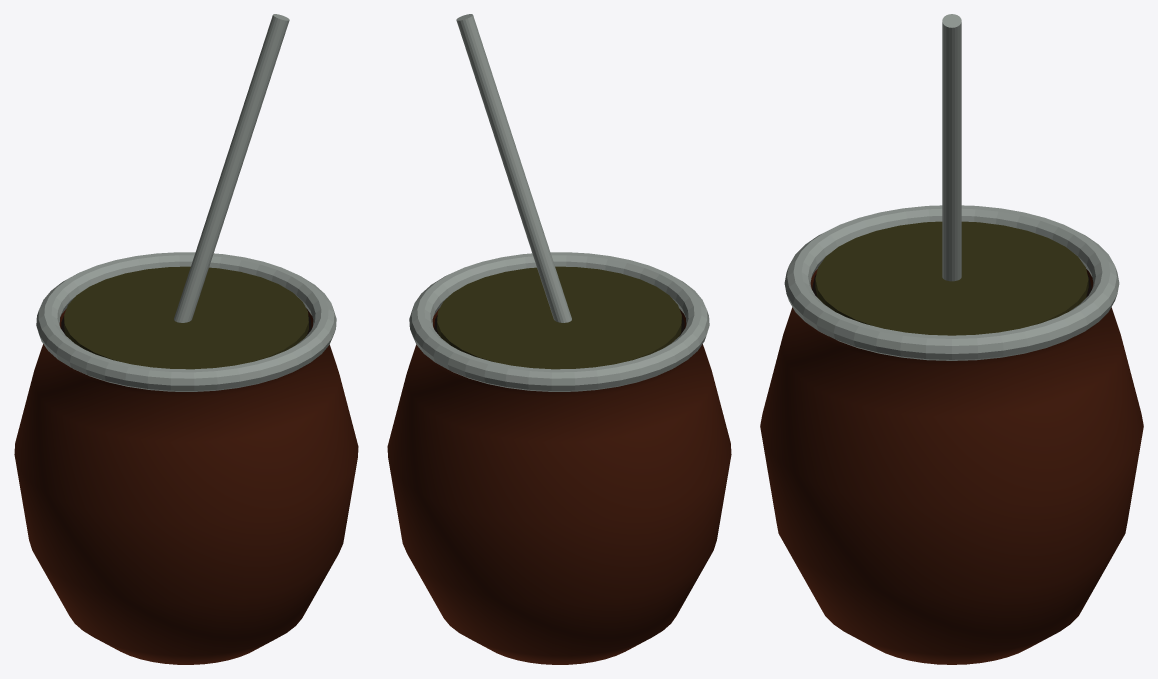
Rendered from MateLavado3D.fbx.
3 renders of one model, left to right at view 1: azimuth 30°, elevation 25°; view 2: azimuth 150°, elevation 25°; view 3: azimuth 270°, elevation 25°, orthographic. The views are drawn at different scales.
Parts seen in each view (by area): view 1: MateLavado3D; view 2: MateLavado3D; view 3: MateLavado3D.
Boxes of the visible parts, <box> form: MateLavado3D: <box>14,14,358,664</box>; MateLavado3D: <box>387,14,731,664</box>; MateLavado3D: <box>760,14,1143,664</box>.
Size of the model in its own units: 23.6 by 44.71 by 23.6.
